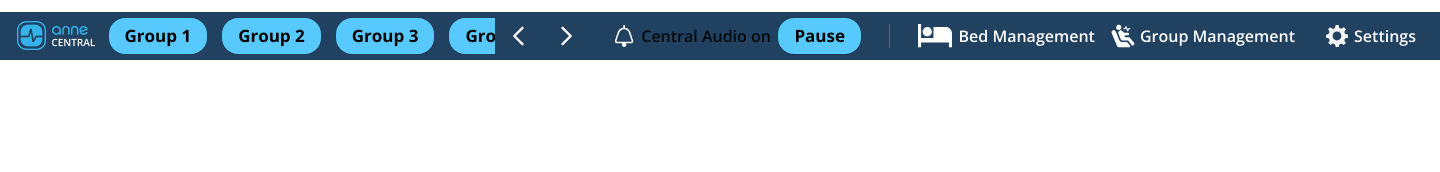
it: LowerTopbar › counts down when audio paused
Click the button "Pause" at (820, 36), box [778, 18, 861, 54]
Wait 1000 ms
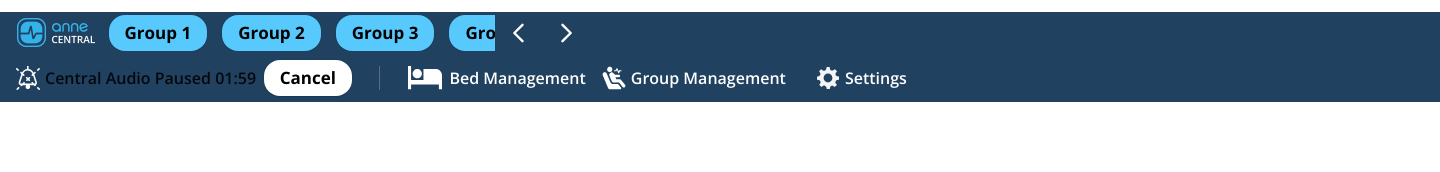
Result: the text "Central Audio Paused 01:59" is shown at [45, 66, 256, 90]
